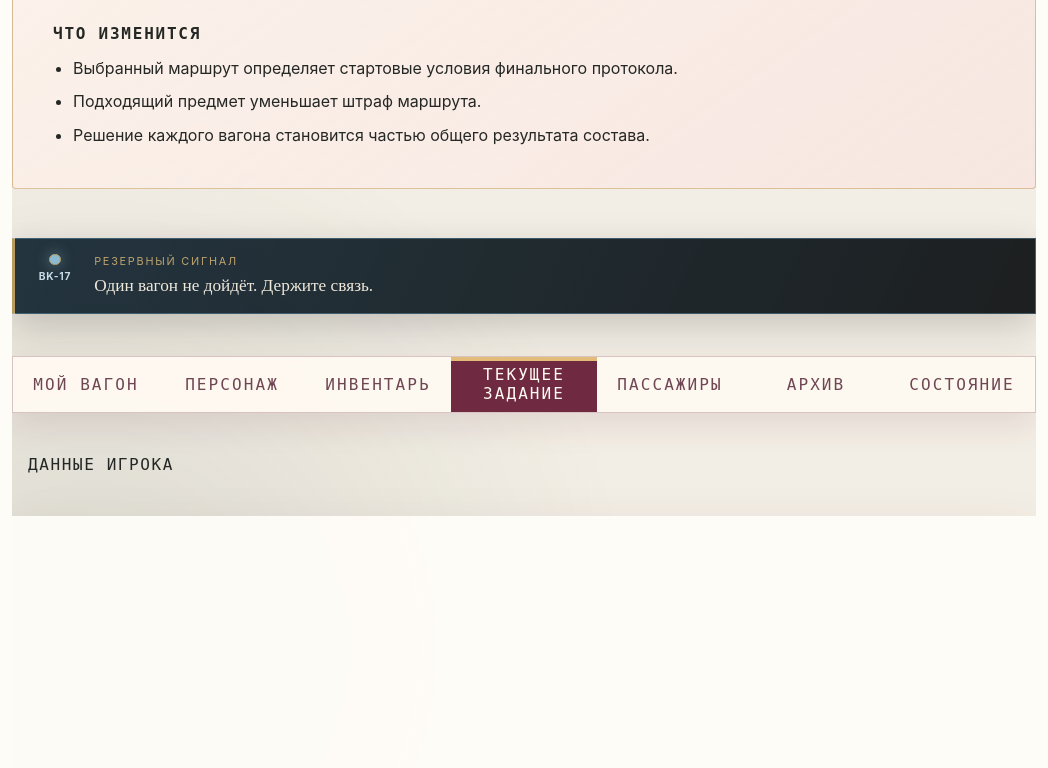
persistent Bunker V2 player dashboard › keeps the latest BK-17 transmission above the mission shell while the guest changes tabs
(page scrolled)
Expected: the element named "Последняя передача оператора BK-17" shows "РЕЗЕРВНЫЙ СИГНАЛ", [94,254,238,268]
Click the button "ИНВЕНТАРЬ" at [378, 384], box [305,356,451,412]
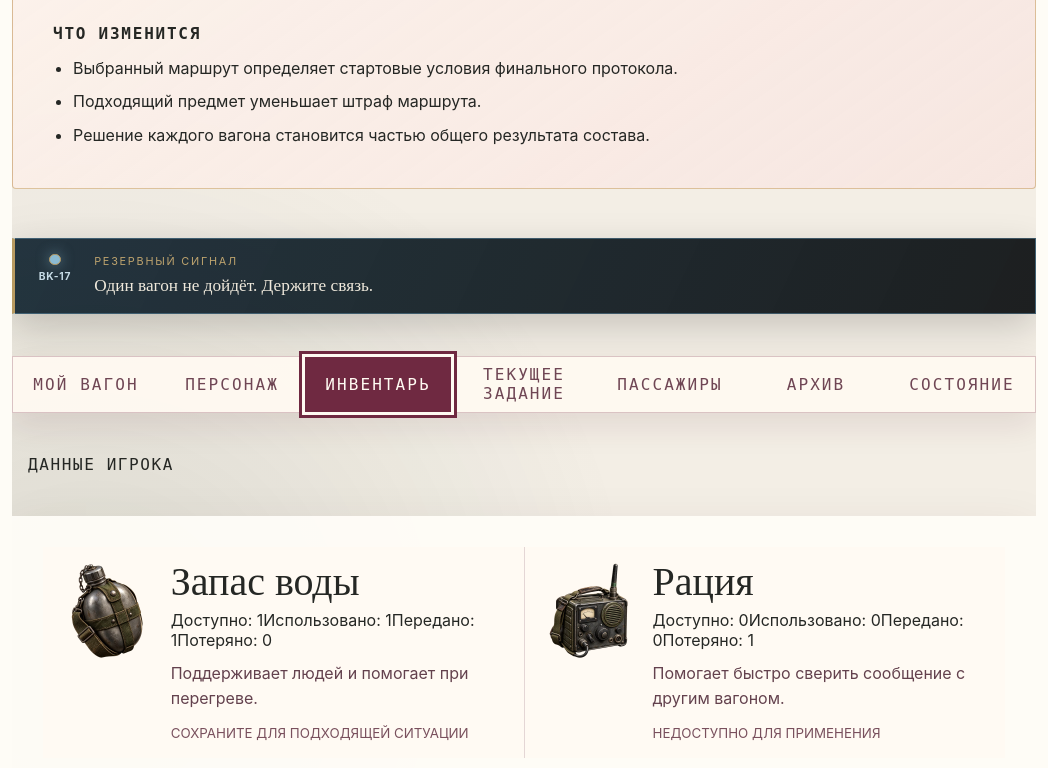
Expected: the element named "Последняя передача оператора BK-17" shows "Один вагон не дойдёт. Держите связь.", [94,276,373,295]
Expected: the element named "Инвентарь вагона" is shown, [43,547,1005,758]
